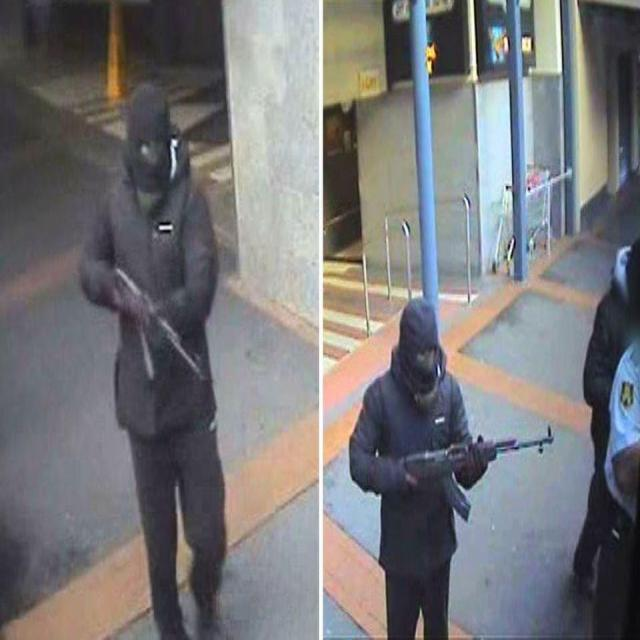gun: (403, 433, 551, 523), (107, 270, 204, 388)
